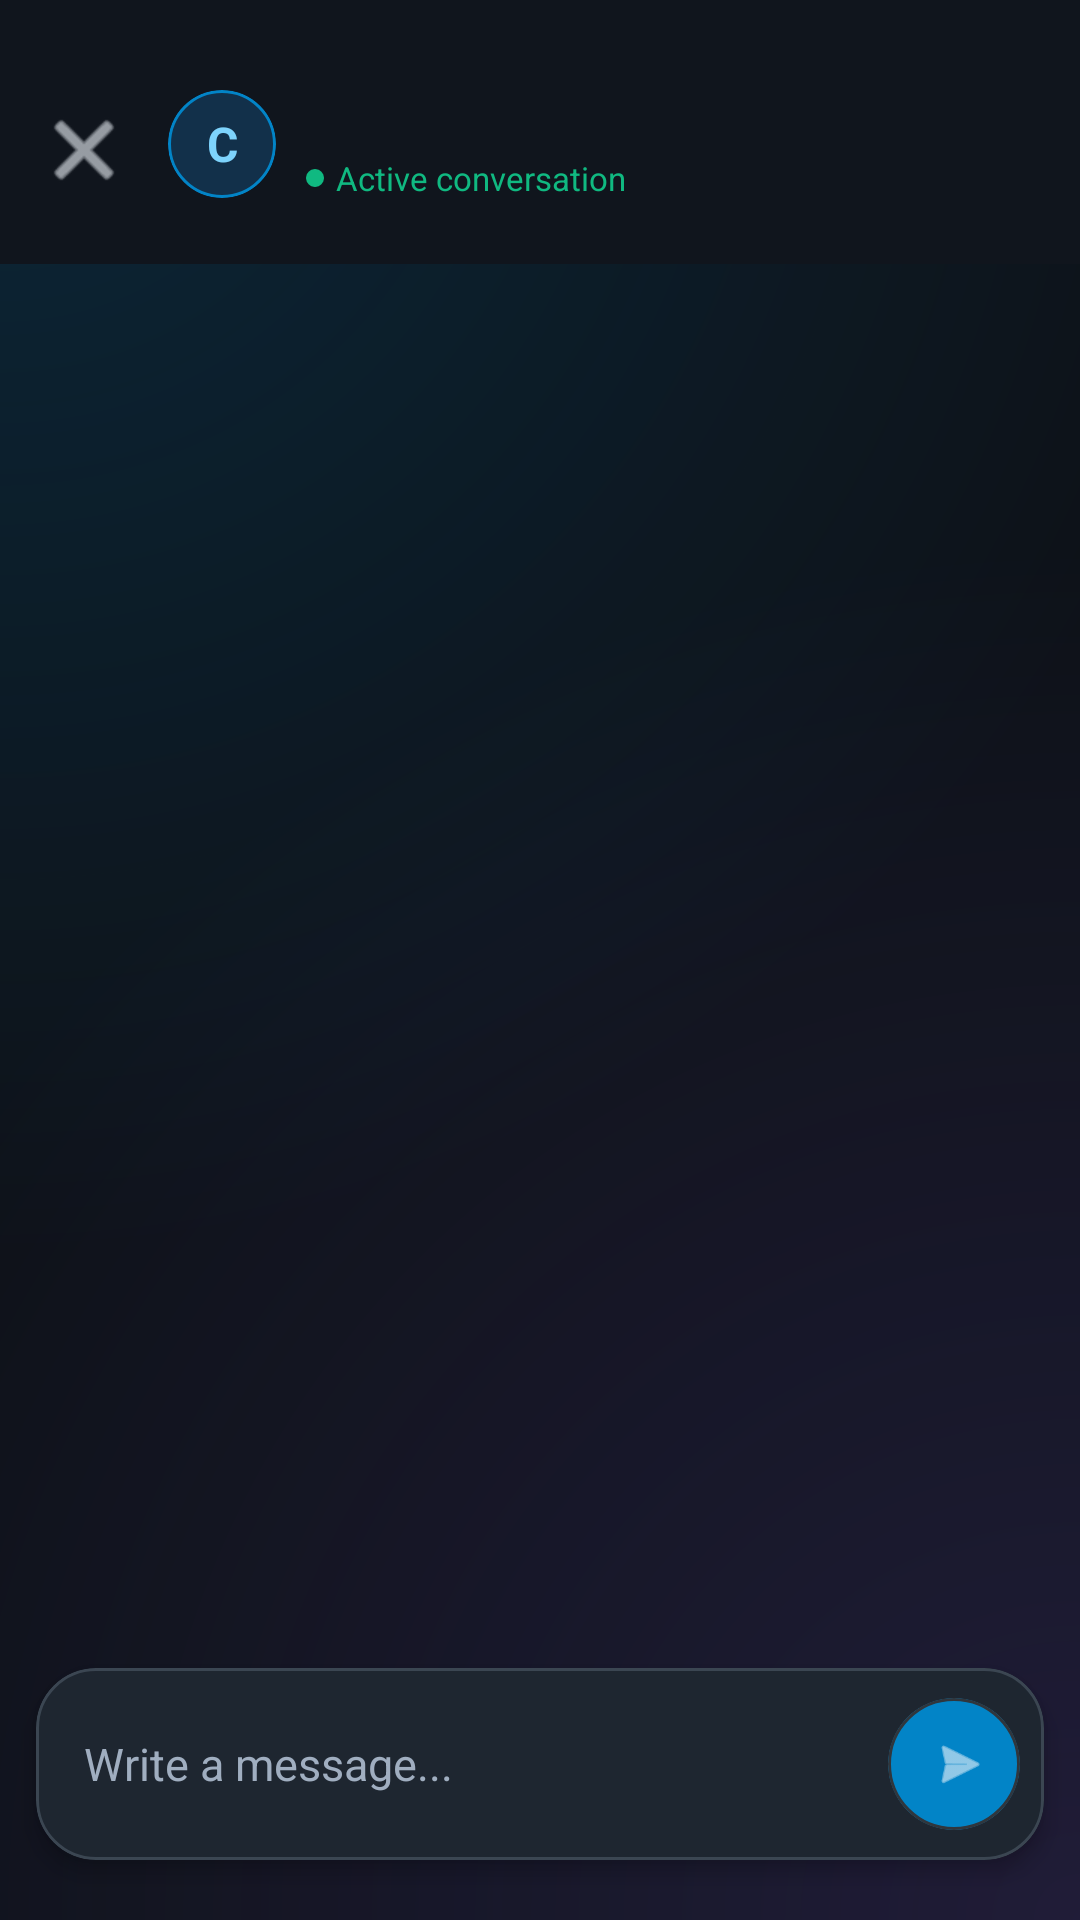

Screen size 1080px x 1920px. Icon name, then its box in pixels as [x1,y1,x2,y2]:
send: [888,1698,1020,1830]
